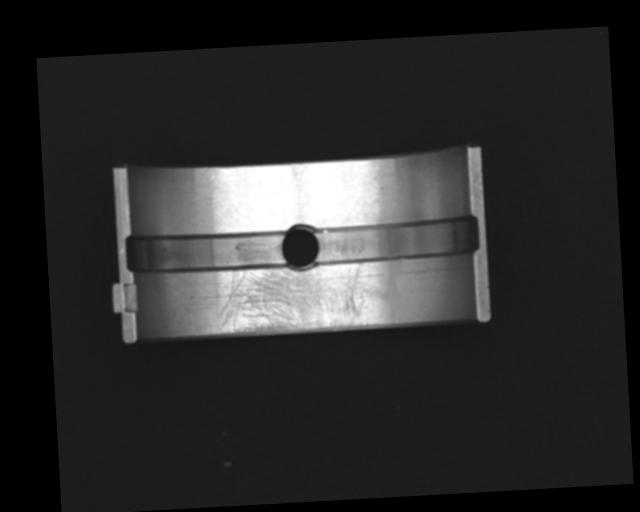gap: (312, 215, 479, 266), (123, 229, 287, 272)
hole: (282, 221, 319, 272)
scratch: (216, 261, 379, 335)
